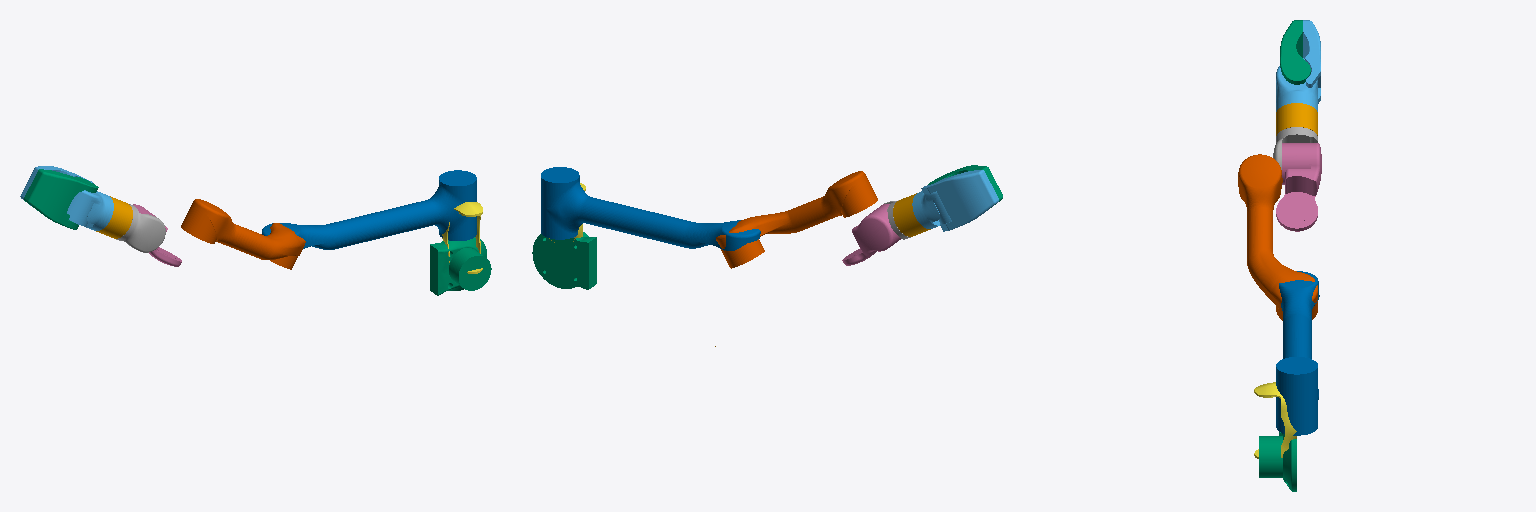
URDF robot description (b1z1_description):
<?xml version="1.0"?>
<robot name="b1z1_description">
  <material name="black">
    <color rgba="0.0 0.0 0.0 1.0" />
  </material>
  <material name="blue">
    <color rgba="0.0 0.0 0.8 1.0" />
  </material>
  <material name="green">
    <color rgba="0.0 0.8 0.0 1.0" />
  </material>
  <material name="grey">
    <color rgba="0.2 0.2 0.2 1.0" />
  </material>
  <material name="silver">
    <color rgba="0.9137254901960784 0.9137254901960784 0.8470588235294118 1.0" />
  </material>
  <material name="orange">
    <!-- <color rgba="1.0 0.4235294117647059 0.0392156862745098 1.0"/> -->
    <color rgba="0.12 0.15 0.2 1.0" />
  </material>
  <material name="brown">
    <color rgba="0.8705882352941177 0.8117647058823529 0.7647058823529411 1.0" />
  </material>
  <material name="red">
    <color rgba="0.8 0.0 0.0 1.0" />
  </material>
  <material name="white">
    <color rgba="1.0 1.0 1.0 1.0" />
  </material>


  <!-- Start of B1 Links and Joints -->
  <link name="base">
    <inertial>
      <mass value="0.001" />
      <origin rpy="0 0 0" xyz="0 0 0" />
      <inertia ixx="0.0001" ixy="0" ixz="0" iyy="0.0001" iyz="0" izz="0.0001" />
    </inertial>
    <visual>
      <origin rpy="0 0 0" xyz="0 0 0" />
      <geometry>
        <box size="0.001 0.001 0.001" />
      </geometry>
    </visual>
  </link>
  <joint name="floating_base" type="fixed">
    <origin rpy="0 0 0" xyz="0 0 0" />
    <parent link="base" />
    <child link="trunk" />
  </joint>
  <link name="trunk">
    <visual>
      <origin rpy="0 0 0" xyz="0 0 0" />
      <geometry>
        <mesh filename="../meshes/trunk.stl"
          scale="1 1 1" />
      </geometry>
      <material name="orange" />
    </visual>
    <collision>
      <origin rpy="0 0 0" xyz="0 0 0" />
      <geometry>
        <box size="0.647 0.3 0.15" />
      </geometry>
    </collision>
    <collision>
            <origin rpy="0 0 0" xyz="0 0 0"/>
            <geometry>
                <mesh filename="../meshes/trunk.stl" scale="1 1
    1"/>
            </geometry>
        </collision>
    <inertial>
      <origin rpy="0 0 0" xyz="0 0 0" />
      <mass value="0" />
      <!-- <inertia ixx="0.183142146" ixy="-0.001379002" ixz="-0.027956055" iyy="0.756327752"
        iyz="0.000193774" izz="0.783777558" /> -->
    </inertial>
  </link>

  <!-- Start of Z1 Links and Joints -->
  <joint name="base_static_joint" type="fixed">
    <origin rpy="0 0 0" xyz="0.3 0 0.09" />
    <parent link="base" />
    <child link="link00" />
  </joint>
  <link name="link00">
    <visual>
      <origin rpy="1.5707963267948966 0 0" xyz="0 0 0" />
      <geometry>
        <mesh filename="../meshes/z1_Link00.stl"
          scale="1 1 1" />
      </geometry>
    </visual>
    <collision>
      <geometry>
        <cylinder length="0.03" radius="0.0325" />
      </geometry>
      <origin rpy="0 0 0" xyz="0 0 0.0255" />
    </collision>
    <inertial>
      <origin rpy="1.5707963267948966 0 0" xyz="-0.00334984 -0.00013615 0.02495843" />
      <mass value="0.47247481" />
      <inertia ixx="0.00037937" ixy="3.5e-07" ixz="1.037e-05" iyy="0.00041521" iyz="9.9e-07"
        izz="0.00053066" />
    </inertial>
  </link>
  <joint name="z1_waist" type="revolute">
    <origin rpy="0 0 0" xyz="0 0 0.0585" />
    <parent link="link00" />
    <child link="link01" />
    <axis xyz="0 0 1" />
    <dynamics damping="1.0" friction="1.0" />
    <limit effort="30.0" lower="-2.6179938779914944" upper="2.6179938779914944" velocity="10" />
  </joint>
  <link name="link01">
    <visual>
      <origin rpy="1.5707963267948966 0 0" xyz="0 0 0" />
      <geometry>
        <mesh filename="../meshes/z1_Link01.stl"
          scale="1 1 1" />
      </geometry>
    </visual>
    <!-- <collision>
            <geometry>
                <cylinder length="${2*motor_height}" radius="${motor_diameter}"/>
            </geometry>
            <origin rpy="0 0 0" xyz="0 0 0"/>
        </collision> -->
    <inertial>
      <origin rpy="1.5707963267948966 0 0" xyz="2.47e-06 -0.00025198 0.02317169" />
      <mass value="0.67332551" />
      <inertia ixx="0.00128328" ixy="6e-08" ixz="4e-07" iyy="0.00071931" iyz="-5e-07"
        izz="0.00083936" />
    </inertial>
  </link>
  <joint name="z1_shoulder" type="revolute">
    <origin rpy="0 0 0" xyz="0 0 0.045" />
    <parent link="link01" />
    <child link="link02" />
    <axis xyz="0 1 0" />
    <dynamics damping="2.0" friction="2.0" />
    <limit effort="60.0" lower="0.0" upper="3.141592653589793" velocity="10" />
  </joint>
  <link name="link02">
    <visual>
      <origin rpy="1.5707963267948966 0 0" xyz="0 0 0" />
      <geometry>
        <mesh filename="../meshes/z1_Link02.stl"
          scale="1 1 1" />
      </geometry>
    </visual>
    <collision>
      <geometry>
        <cylinder length="0.102" radius="0.02" />
      </geometry>
      <origin rpy="1.5707963267948966 0 0" xyz="0 0 0" />
    </collision>
    <collision>
      <geometry>
        <cylinder length="0.235" radius="0.0225" />
      </geometry>
      <origin rpy="0 1.5707963267948966 0" xyz="-0.16249999999999998 0 0" />
    </collision>
    <collision>
      <geometry>
        <cylinder length="0.051" radius="0.0325" />
      </geometry>
      <origin rpy="1.5707963267948966 0 0" xyz="-0.35 0 0" />
    </collision>
    <inertial>
      <origin rpy="1.5707963267948966 0 0" xyz="-0.11012601 0.00240029 0.00158266" />
      <mass value="1.19132258" />
      <inertia ixx="0.00102138" ixy="-0.00062358" ixz="-5.13e-06" iyy="0.02429457" iyz="2.1e-06"
        izz="0.02466114" />
    </inertial>
  </link>
  <joint name="z1_elbow" type="revolute">
    <origin rpy="0 0 0" xyz="-0.35 0 0" />
    <parent link="link02" />
    <child link="link03" />
    <axis xyz="0 1 0" />
    <dynamics damping="1.0" friction="1.0" />
    <!-- <limit effort="30.0" lower="-4.782202150464463" upper="0.0" velocity="10" /> -->
    <limit effort="30.0" lower="-4.782202150464463" upper="-0.4" velocity="10" />
  </joint>
  <link name="link03">
    <visual>
      <origin rpy="1.5707963267948966 0 0" xyz="0 0 0" />
      <geometry>
        <mesh filename="../meshes/z1_Link03.stl"
          scale="1 1 1" />
      </geometry>
    </visual>
    <collision>
      <geometry>
        <cylinder length="0.116" radius="0.02" />
      </geometry>
      <origin rpy="0 1.5707963267948966 0" xyz="0.128 0 0.055" />
    </collision>
    <collision>
      <geometry>
        <cylinder length="0.059" radius="0.0325" />
      </geometry>
      <origin rpy="0 1.5707963267948966 0" xyz="0.2205 0 0.055" />
    </collision>
    <inertial>
      <origin rpy="1.5707963267948966 0 0" xyz="0.10609208 -0.00541815 0.03476383" />
      <mass value="0.83940874" />
      <inertia ixx="0.00108061" ixy="8.669e-05" ixz="0.00208102" iyy="0.00954238" iyz="1.332e-05"
        izz="0.00886621" />
    </inertial>
  </link>
  <joint name="z1_wrist_angle" type="revolute">
    <origin rpy="0 0 0" xyz="0.218 0 0.057" />
    <parent link="link03" />
    <child link="link04" />
    <axis xyz="0 1 0" />
    <dynamics damping="1.0" friction="1.0" />
    <limit effort="30.0" lower="-1.7453292519943295" upper="1.5707963267948966" velocity="10" />
    <!-- <limit effort="30.0" lower="-1.2" upper="1.5707963267948966" velocity="10" /> -->
  </joint>
  <link name="link04">
    <visual>
      <origin rpy="1.5707963267948966 0 0" xyz="0 0 0" />
      <geometry>
        <mesh filename="../meshes/z1_Link04.stl"
          scale="1 1 1" />
      </geometry>
    </visual>
    <collision>
      <geometry>
        <cylinder length="0.073" radius="0.0325" />
      </geometry>
      <origin rpy="1.5707963267948966 0 0" xyz="0.0472 0 0" />
    </collision>
    <inertial>
      <origin rpy="1.5707963267948966 0 0" xyz="0.04366681 0.00364738 -0.00170192" />
      <mass value="0.56404563" />
      <inertia ixx="0.00031576" ixy="-8.13e-05" ixz="-4.091e-05" iyy="0.00092996" iyz="5.96e-06"
        izz="0.00097912" />
    </inertial>
  </link>
  <joint name="z1_forearm_roll" type="revolute">
    <origin rpy="0 0 0" xyz="0.07 0.0 0.0" />
    <parent link="link04" />
    <child link="link05" />
    <axis xyz="0 0 1" />
    <dynamics damping="1.0" friction="1.0" />
    <limit effort="30.0" lower="-1.7278759594743864" upper="1.7278759594743864" velocity="10" />
  </joint>
  <link name="link05">
    <visual>
      <origin rpy="1.5707963267948966 0 0" xyz="0 0 0" />
      <geometry>
        <mesh filename="../meshes/z1_Link05.stl"
          scale="1 1 1" />
      </geometry>
    </visual>
    <inertial>
      <origin rpy="1.5707963267948966 0 0" xyz="0.03121533 0.0 0.00646316" />
      <mass value="0.38938492" />
      <inertia ixx="0.00017605" ixy="-4e-07" ixz="-5.689e-05" iyy="0.00055896" iyz="1.3e-07"
        izz="0.0005386" />
    </inertial>
  </link>
  <joint name="z1_wrist_rotate" type="revolute">
    <origin rpy="0 0 0" xyz="0.0492 0.0 0.0" />
    <parent link="link05" />
    <child link="link06" />
    <axis xyz="1 0 0" />
    <dynamics damping="1.0" friction="1.0" />
    <limit effort="30.0" lower="-2.792526803190927" upper="2.792526803190927" velocity="10" />
  </joint>
  <link name="link06">
    <visual>
      <origin rpy="1.5707963267948966 0 0" xyz="0 0 0" />
      <geometry>
        <mesh filename="../meshes/z1_Link06.stl"
          scale="1 1 1" />
      </geometry>
    </visual>
    <collision>
      <geometry>
        <cylinder length="0.051" radius="0.0325" />
      </geometry>
      <origin rpy="0 1.5707963267948966 0" xyz="0.0255 0 0" />
    </collision>
    <inertial>
      <origin rpy="1.5707963267948966 0 0" xyz="0.0241569 -0.00017355 -0.00143876" />
      <mass value="0.28875807" />
      <inertia ixx="0.00018328" ixy="-1.22e-06" ixz="-5.4e-07" iyy="0.0001475" iyz="-8e-08"
        izz="0.0001468" />
    </inertial>
  </link>
<!-- 
  <joint name="vis_joint" type="fixed">
    <parent link="link06" />
    <child link="wrist_cam" />
    <origin rpy="0 0 0" xyz="0.055 0.12 -0.04" />
  </joint>
  <link name="wrist_cam">
    <visual>
      <origin rpy="0 0 0" xyz="0 0 0" />
      <geometry>
        <box size="0.001 0.001 0.001" />
      </geometry>
      <material name="red" />
    </visual>
  </link> -->
  
  <joint name="z1_gripperStator" type="fixed" >
    <origin rpy="0 0 0" xyz="0.051 0.0 0.0"/>
    <parent link="link06"/>
    <child link="gripperStator"/>
  </joint>
  <link name="gripperStator">
    <visual>
      <origin rpy="1.5707963267948966 0 0" xyz="0 0 0"/>
      <geometry>
        <mesh filename="../meshes/z1_GripperStator.stl" scale="1 1 1"/>
      </geometry>
    </visual>
    <collision>
      <origin
        xyz="0.058 0 -0.028"
        rpy="0 0 0" />
      <geometry>
        <box size="0.08 0.08 0.02"/>
      </geometry>
    </collision>
    <collision>
      <origin
        xyz="0.11 0 -0.024"
        rpy="0 -0.2967 0" />
      <geometry>
        <box size="0.03 0.08 0.02"/>
      </geometry>
    </collision>
    <collision>
      <origin
        xyz="0.135 0 -0.02"
        rpy="0 0 0" />
      <geometry>
        <box size="0.03 0.06 0.02"/>
      </geometry>
    </collision>
    <collision>
      <origin rpy="0 0 0" xyz="0 0 0"/>
      <geometry>
        <mesh filename="../meshes/gripper_fix_90d.stl" scale="1 1 1"/>
      </geometry>
    </collision>
    <!-- <collision>
      <geometry>
        <cylinder length="0.051" radius="0.0325"/>
      </geometry>
      <origin rpy="0 0 0" xyz="0 0 0"/>
    </collision> -->
    <inertial>
      <origin rpy="1.5707963267948966 0 0" xyz="0.04764427 -0.00035819 -0.00249162"/>
      <mass value="0.52603655"/>
      <inertia ixx="0.00038683" ixy="3.59e-06" ixz="-7.662e-05" iyy="0.00068614" iyz="-2.09e-06" izz="0.00066293"/>
    </inertial>
  </link>
  <joint name="z1_jointGripper" type="revolute">
    <origin rpy="0 0 0" xyz="0.049 0.0 0"/>
    <parent link="gripperStator"/>
    <child link="gripperMover"/>
    <axis xyz="0 1 0"/>
    <dynamics damping="1.0" friction="1.0"/>
    <limit effort="30.0" lower="-1.5707963267948966" upper="0.0" velocity="10"/>
  </joint>
  <link name="gripperMover">
    <visual>
      <origin rpy="1.5707963267948966 0 0" xyz="0 0 0"/>
      <geometry>
        <mesh filename="../meshes/z1_GripperMover.stl" scale="1 1 1"/>
      </geometry>
    </visual>
    <collision>
      <origin
        xyz="0.026 0 0.012"
        rpy="0 0 0" />
      <geometry>
        <box size="0.05 0.08 0.024"/>
      </geometry>
    </collision>
    <collision>
      <origin
        xyz="0.065 0 0.007"
        rpy="0 0.384 0" />
      <geometry>
        <box size="0.032 0.08 0.022"/>
      </geometry>
    </collision>
    <collision>
      <origin
        xyz="0.085 0 0"
        rpy="0 0 0" />
      <geometry>
        <box size="0.026 0.06 0.018"/>
      </geometry>
    </collision>

    <inertial>
      <origin rpy="1.5707963267948966 0 0" xyz="0.01320633 0.00476708 0.00380534"/>
      <mass value="0.27621302"/>
      <inertia ixx="0.00017716" ixy="-1.683e-05" ixz="1.786e-05" iyy="0.00026787" iyz="-2.62e-06" izz="0.00035728"/>
    </inertial>
  </link>
  <joint name="ee_gripper" type="fixed">
    <axis xyz="1 0 0"/>
    <origin rpy="0 0 0" xyz="0.135 0 0"/>
    <parent link="gripperStator"/>
    <child link="ee_gripper_link"/>
  </joint>
  <link name="ee_gripper_link">
    <inertial>
      <mass value="0.001"/>
      <inertia ixx="0.001" ixy="0" ixz="0" iyy="0.001" iyz="0" izz="0.001"/>
    </inertial>
    <visual>
      <origin rpy="0 0 0" xyz="0 0 0" />
      <geometry>
        <box size="0.001 0.001 0.001" />
      </geometry>
    </visual>
  </link>
</robot>

--- What the picture shows (computed from the rendered views, not written in the file) ---
The picture shows the robot from 3 angles, left to right: view 1: azimuth 30°, elevation 25°; view 2: azimuth 150°, elevation 25°; view 3: azimuth 270°, elevation 25°; orthographic projection.
Robot: b1z1_description — 12 links, 11 joints (7 revolute, 4 fixed); root link base; default pose: joints at zero except 1 at the middle of their limits (z1_elbow = -2.59).
Visible links, largest first — view 1: link02, link03, link00, gripperMover, gripperStator, link05, link06, link01; view 2: link02, link03, gripperStator, link00, link04, link06; view 3: link02, link03, link04, gripperStator, link00, gripperMover, link06, link01, link05.
Link boxes in pixels (box(x1,y1,x2,y2)): link02: box(262, 170, 476, 249); link03: box(181, 199, 305, 269); link00: box(430, 237, 491, 295); gripperMover: box(24, 169, 98, 229); gripperStator: box(20, 166, 113, 230); link05: box(116, 204, 165, 252); link06: box(96, 196, 132, 238); link01: box(442, 202, 482, 273); link02: box(541, 167, 760, 250); link03: box(716, 171, 877, 268); gripperStator: box(912, 170, 998, 231); link00: box(532, 232, 596, 289); link04: box(842, 204, 900, 265); link06: box(893, 193, 930, 236); link02: box(1276, 271, 1319, 435); link03: box(1238, 154, 1317, 320); link04: box(1276, 143, 1321, 231); gripperStator: box(1276, 20, 1320, 111); link00: box(1259, 432, 1296, 491); gripperMover: box(1280, 20, 1310, 84); link06: box(1276, 103, 1317, 135); link01: box(1254, 382, 1296, 458); link05: box(1273, 127, 1317, 169).
Bounding box of the posed robot: 0.9052 × 0.13 × 0.451 m (x, y, z).
9 mesh visuals loaded from 10 distinct referenced files (9 binary STL); not drawn: 1 (reference not matched to a file when rendering).
